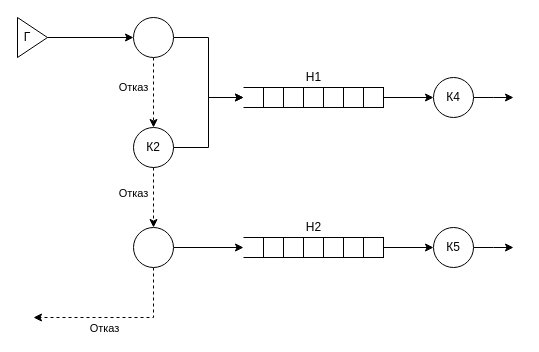
Some shapes in this 539 by 352 pixel diagram are drawn without their labels. Here are the shapes that lost their labels. From the top down, the centre of each, then its label:
[153,37]: К1
[153,247]: К3
